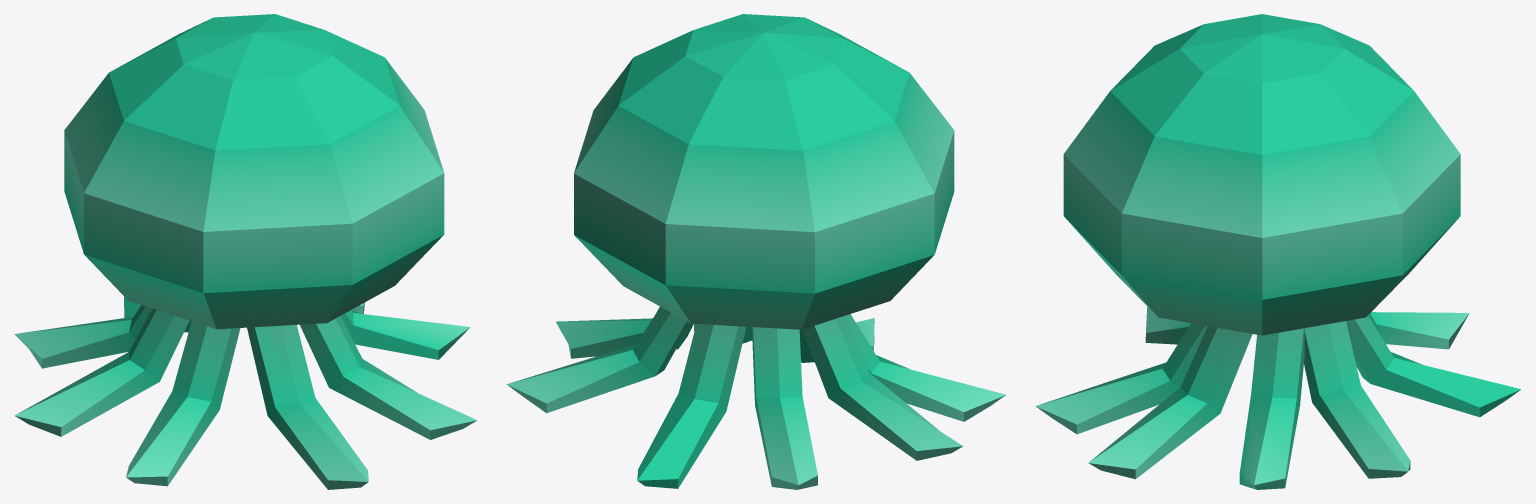
File: AguaVivaPequena.fbx
3 renders of one model, left to right at view 1: azimuth 30°, elevation 25°; view 2: azimuth 150°, elevation 25°; view 3: azimuth 270°, elevation 25°, orthographic.
Visible parts, largest first — view 1: AguaVivaPequena; view 2: AguaVivaPequena; view 3: AguaVivaPequena.
Boxes of the visible parts, bbox=[...] form: AguaVivaPequena: bbox=[14, 14, 477, 489]; AguaVivaPequena: bbox=[507, 14, 1006, 489]; AguaVivaPequena: bbox=[1035, 14, 1520, 489].
Bounding box in the file's own units: 157 × 134 × 151.
